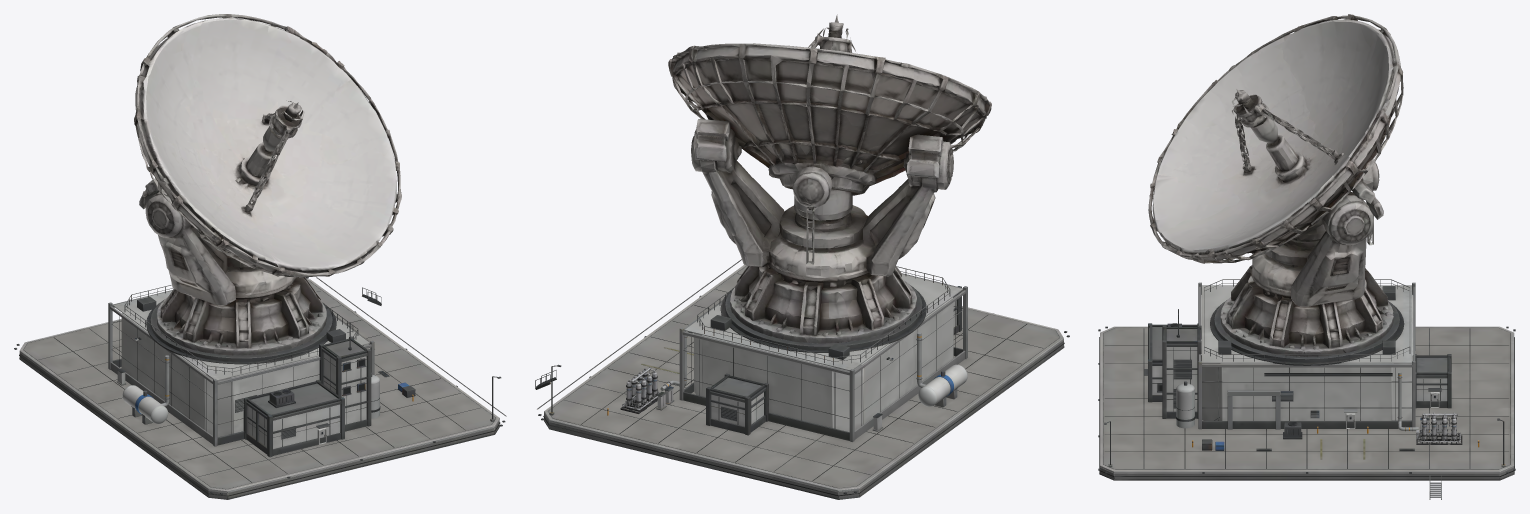
Rendered from radio_telescope.lite.glb.
3 renders of one model, left to right at view 1: azimuth 30°, elevation 25°; view 2: azimuth 150°, elevation 25°; view 3: azimuth 270°, elevation 25°, orthographic. The views are drawn at different scales.
Visible parts, largest first — view 1: parts_colony-dishMount, hull; view 2: parts_colony-dishMount, hull, parts_colony-filterBank; view 3: hull, parts_colony-dishMount, parts_colony-filterBank.
Boxes of the visible parts, x1=… form: parts_colony-dishMount: x1=134, y1=14, x2=401, y2=355; hull: x1=14, y1=277, x2=506, y2=499; parts_colony-dishMount: x1=668, y1=14, x2=991, y2=343; hull: x1=535, y1=259, x2=1069, y2=499; parts_colony-filterBank: x1=620, y1=367, x2=659, y2=413; hull: x1=1098, y1=279, x2=1515, y2=499; parts_colony-dishMount: x1=1148, y1=14, x2=1403, y2=356; parts_colony-filterBank: x1=1416, y1=412, x2=1462, y2=444.
Size of the model in its own units: 54.28 by 55.3 by 58.42.
5 materials, 5 textured.
